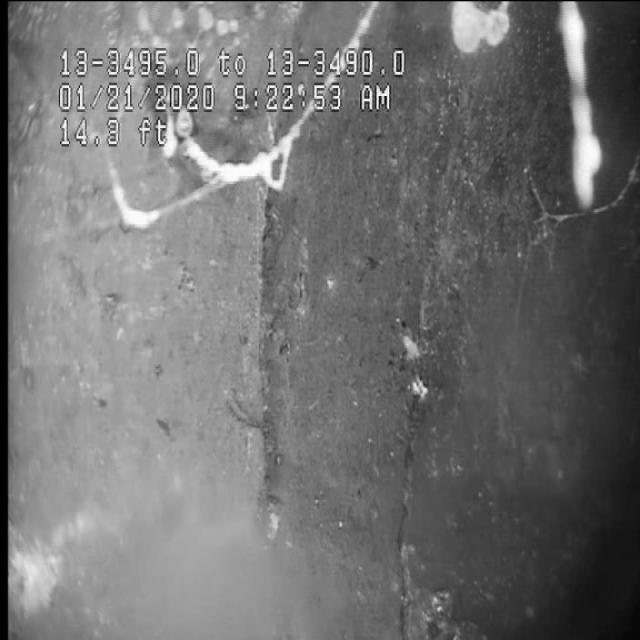Crack: (349, 180, 515, 606)
